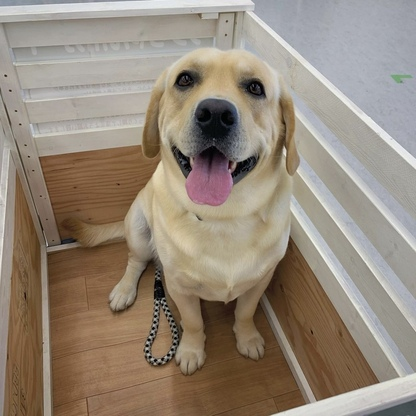labrado: (58, 42, 306, 381)
